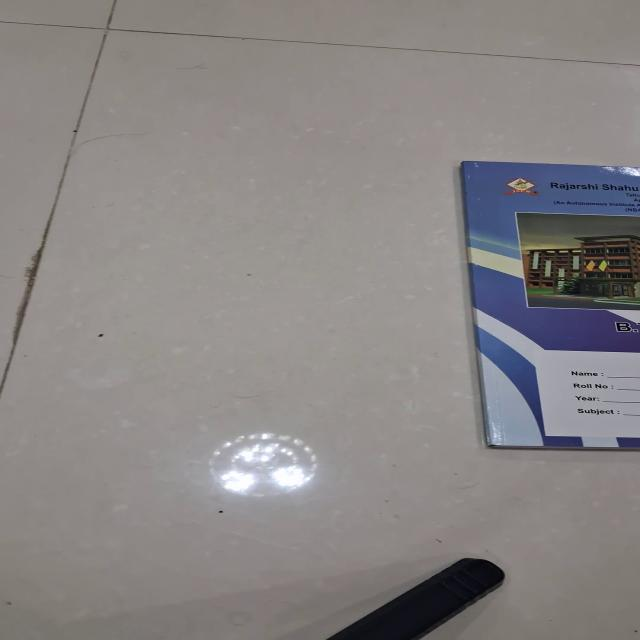paper: (460, 160, 639, 449)
